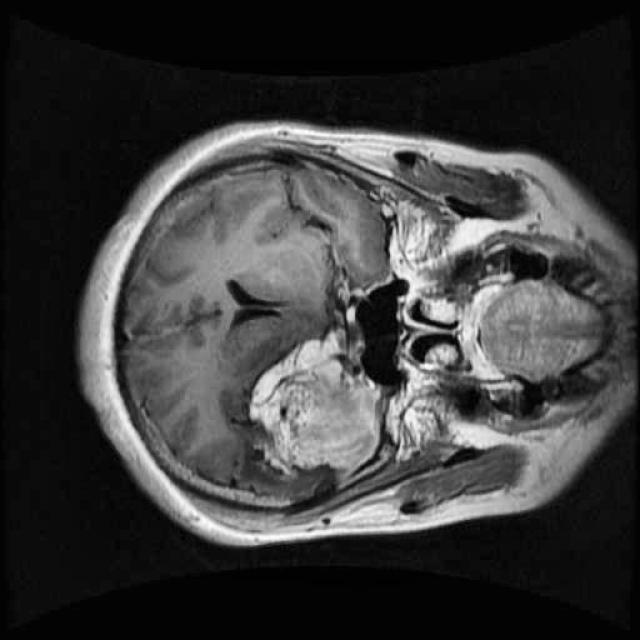Tumor: (230, 308, 398, 491)
